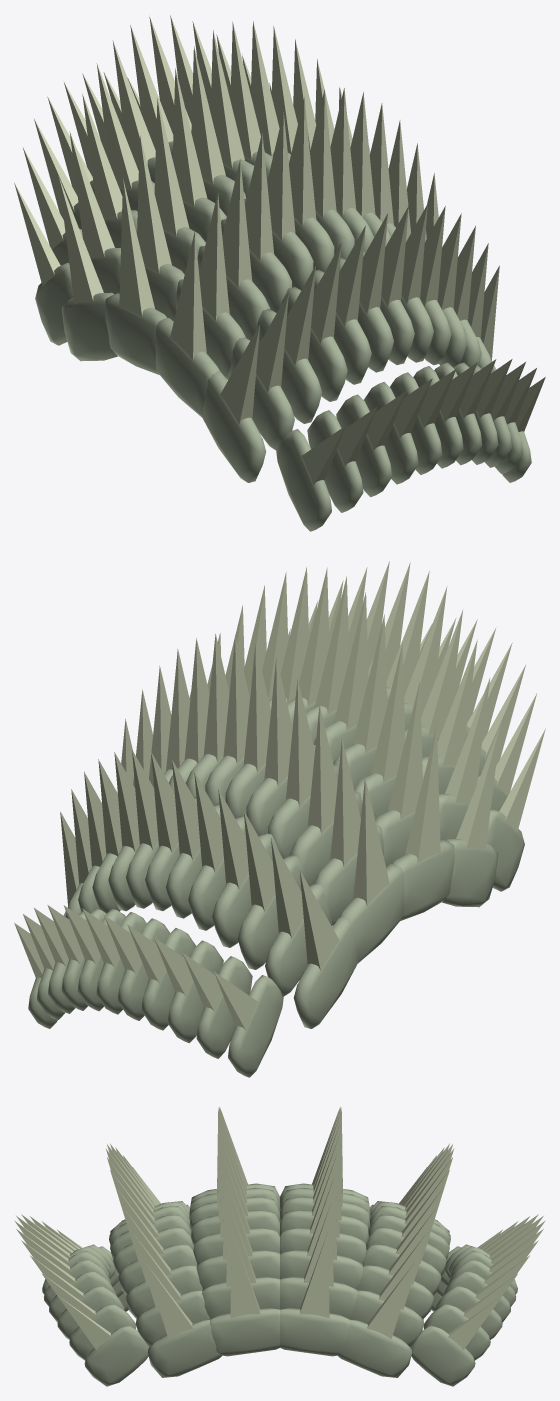
The model's file is creature.backplates.glb.
3 views of the same model, one above another, from view 1: azimuth 30°, elevation 25°; view 2: azimuth 150°, elevation 25°; view 3: azimuth 270°, elevation 25° (orthographic). The views are drawn at different scales.
Visible parts, largest first — view 1: ShellRim, Shell; view 2: ShellRim, Shell; view 3: Shell, ShellRim.
Part boxes in pixels (x1=…): ShellRim: x1=14, y1=15, x2=545, y2=484; Shell: x1=35, y1=141, x2=531, y2=531; ShellRim: x1=14, y1=561, x2=545, y2=1030; Shell: x1=28, y1=687, x2=524, y2=1077; Shell: x1=42, y1=1183, x2=517, y2=1386; ShellRim: x1=14, y1=1107, x2=545, y2=1349.
Bounding box in the file's own units: 0.6452 × 0.8577 × 1.72.
